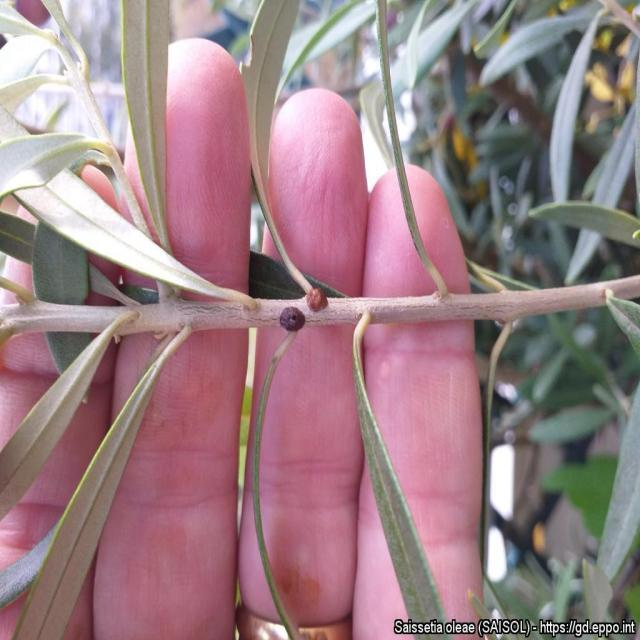BlackScale: (305, 288, 329, 312), (280, 306, 300, 332)
